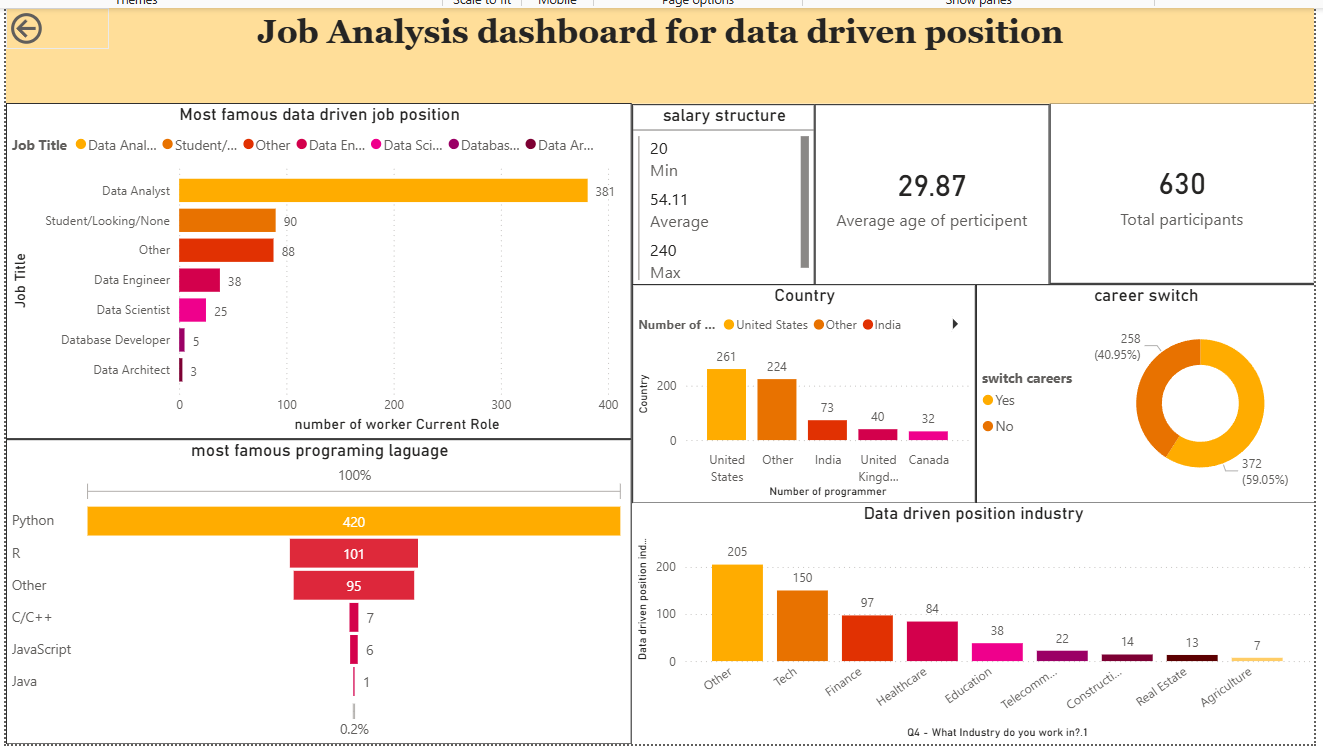

Layout of this report page (visuals, bound fields, positions):
{"tool":"powerbi","page":{"name":"Page 1","canvas":[1280,720],"ordinal":0},"visuals":[{"type":"card","title":"Total Participent","fields":{"Values":["Count(Data Professional Survey.Unique ID)"]},"box":[1020.9,93.3,259.3,177],"z":0},{"type":"textbox","box":[0,0,1280.3,93.3],"z":1000},{"type":"card","fields":{"Values":["Avg(Data Professional Survey.Q10 - Current Age)"]},"box":[790.6,93.7,229.9,177.4],"z":2000},{"type":"multiRowCard","title":"salary structure","fields":{"Values":["Min(Data Professional Survey.Q3- Current Yearly Salary (in USD) avg)","Avg(Data Professional Survey.Q3- Current Yearly Salary (in USD) avg)","Max(Data Professional Survey.Q3- Current Yearly Salary (in USD) avg)"]},"box":[612.4,94.6,178.6,177.1],"z":3000},{"type":"actionButton","box":[0,0,100,40],"z":4000},{"type":"barChart","title":"Most famous data driven job position ","fields":{"Category":["Data Professional Survey.Q1 - Which Title Best Fits your Current Role?.1"],"Y":["CountNonNull(Data Professional Survey.Q1 - Which Title Best Fits your Current Role?.1)"],"Series":["Data Professional Survey.Q1 - Which Title Best Fits your Current Role?.1"]},"box":[0,93.1,612.4,328.7],"z":5000},{"type":"funnel","title":"most famous programing laguage","fields":{"Category":["Data Professional Survey.Q5 - Favorite Programming Language.1"],"Y":["CountNonNull(Data Professional Survey.Q5 - Favorite Programming Language.1)"]},"box":[0,421.8,612.4,298.7],"z":6000},{"type":"donutChart","title":"career switch","fields":{"Category":["Data Professional Survey.Q2 - Did you switch careers into Data?"],"Y":["CountNonNull(Data Professional Survey.Q2 - Did you switch careers into Data?)"]},"box":[948.6,270.2,331.7,214.6],"z":7000},{"type":"columnChart","title":"Country ","fields":{"Category":["Data Professional Survey.Q11 - Which Country do you live in?"],"Y":["CountNonNull(Data Professional Survey.Q11 - Which Country do you live in?)"],"Series":["Data Professional Survey.Q11 - Which Country do you live in?"]},"box":[612.4,270.2,336.2,214.6],"z":8000},{"type":"columnChart","title":"Data driven position industry","fields":{"Category":["Data Professional Survey.Q4 - What Industry do you work in?.1"],"Y":["CountNonNull(Data Professional Survey.Q4 - What Industry do you work in?.1)"],"Series":["Data Professional Survey.Q4 - What Industry do you work in?.1"]},"box":[612.4,484.8,667.9,235.6],"z":9000}]}

Visuals, with their boxes in screenshot pixels (x1, y1, x2, y2):
"Total Participent" card: {"x1": 1044, "y1": 102, "x2": 1308, "y2": 282}
textbox: {"x1": 3, "y1": 7, "x2": 1308, "y2": 102}
card - Avg(Data Professional Survey.Q10 - Current Age): {"x1": 809, "y1": 102, "x2": 1044, "y2": 283}
"salary structure" multiRowCard: {"x1": 628, "y1": 103, "x2": 810, "y2": 284}
actionButton: {"x1": 3, "y1": 7, "x2": 105, "y2": 48}
"Most famous data driven job position " barChart: {"x1": 3, "y1": 102, "x2": 628, "y2": 437}
"most famous programing laguage" funnel: {"x1": 3, "y1": 437, "x2": 628, "y2": 741}
"career switch" donutChart: {"x1": 970, "y1": 282, "x2": 1308, "y2": 501}
"Country " columnChart: {"x1": 628, "y1": 282, "x2": 970, "y2": 501}
"Data driven position industry" columnChart: {"x1": 628, "y1": 501, "x2": 1308, "y2": 741}
